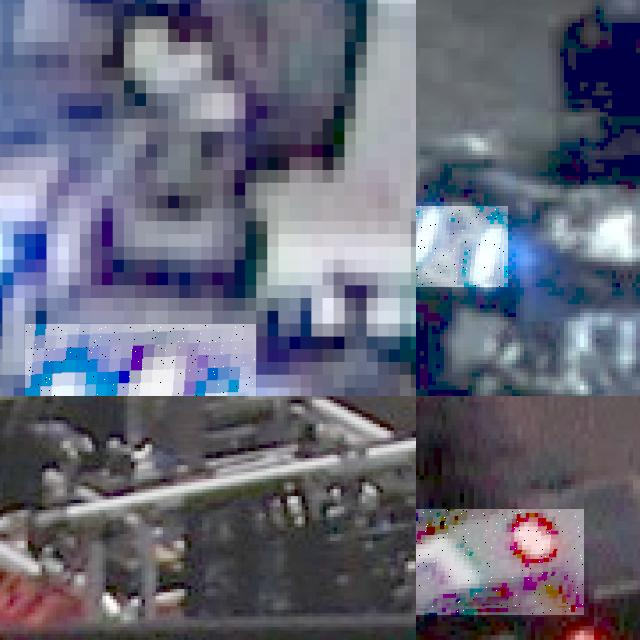B4: (24, 323, 256, 396)
Bs: (416, 206, 508, 287)
R1: (416, 509, 584, 614)
